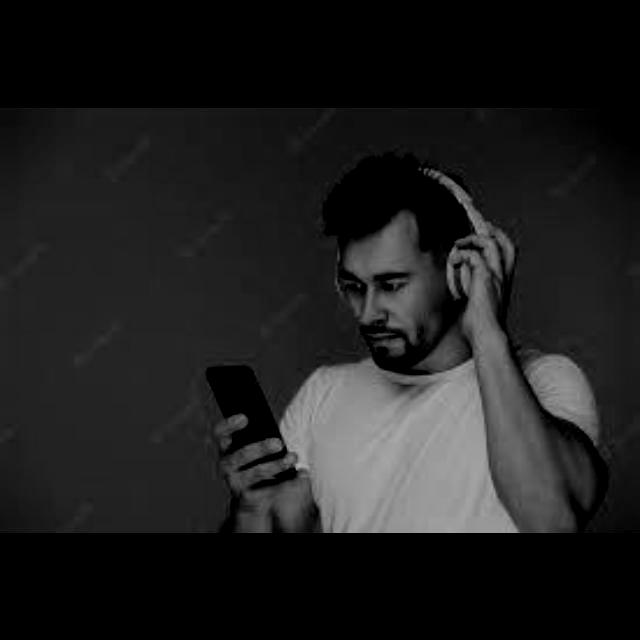fake: (178, 329, 330, 522)
real: (338, 239, 455, 369)
